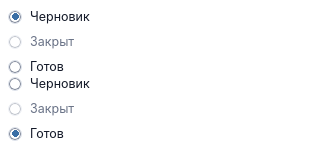
Test: RadioGroup › управляет группами с разными name независимо и снимает выбор по null
This screenshot has width=320, height=160.
Later steps or results of the test are not shown.
What coordinates should you click on to do the following:
click the 2nd radio button labelled "Черновик"
I would click on:
 (15, 84)
Its box is [8, 76, 22, 90].
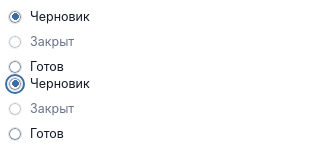
Expected: the 1st radio button labelled "Черновик" is checked, [8, 10, 22, 24]
Expected: the 2nd radio button labelled "Черновик" is checked, [8, 76, 22, 90]
